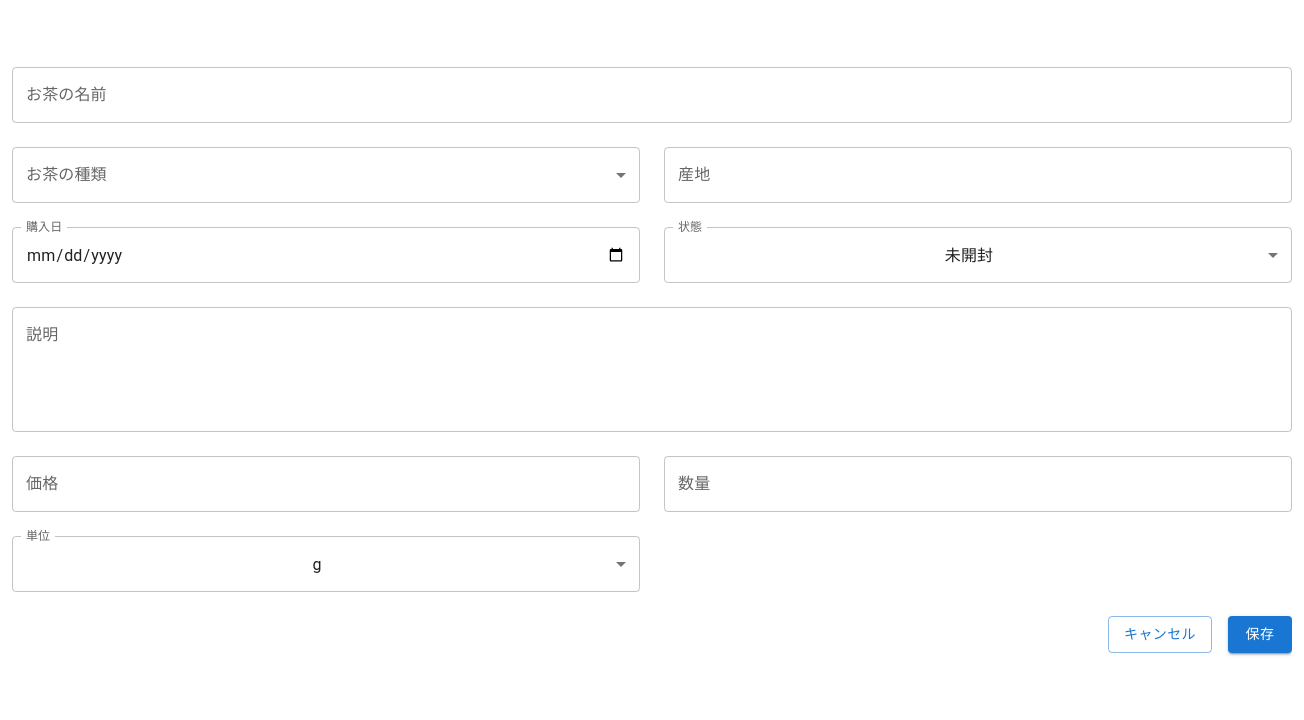
Test case: TeaForm › 必須フィールドが空の場合にバリデーションエラーが表示されること
Click the button "保存" at coordinates (1260, 635), box 1228,616 -> 1292,653
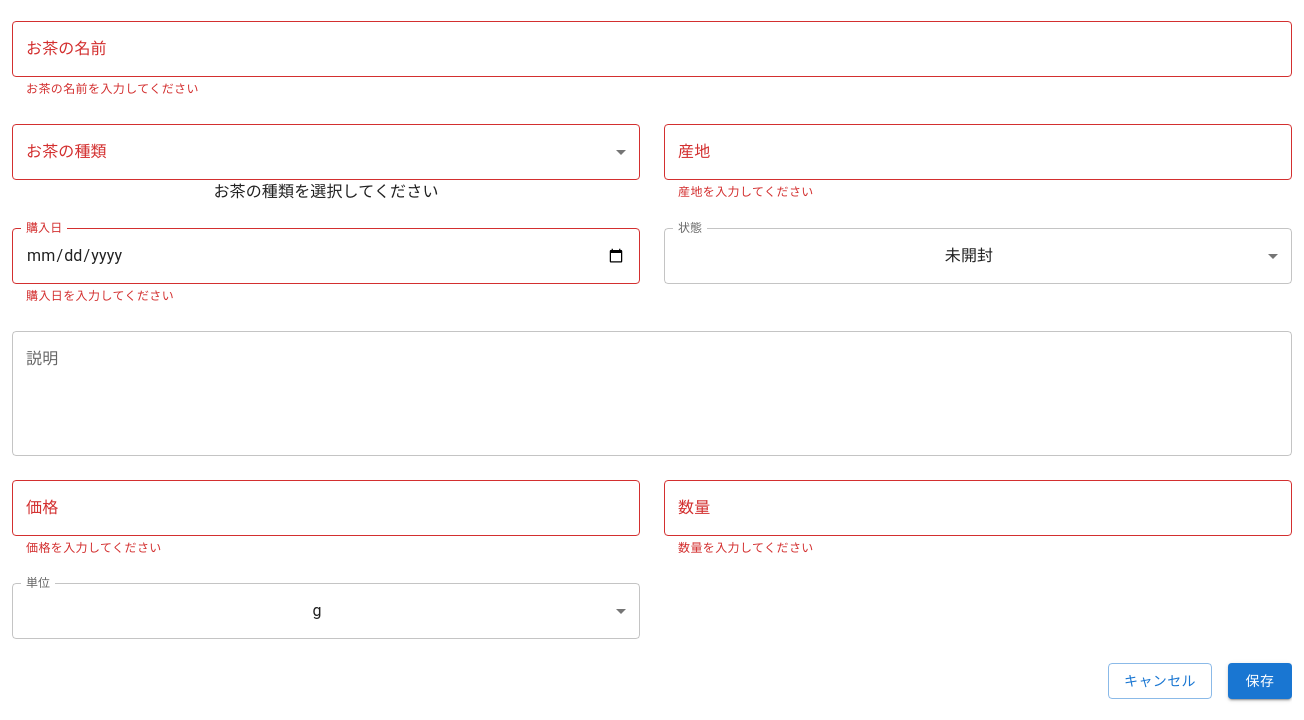
Now the text "お茶の名前を入力してください" is shown, box 26,82 -> 199,96
Now the text "お茶の種類を選択してください" is shown, box 213,182 -> 439,201
Now the text "産地を入力してください" is shown, box 678,185 -> 814,199
